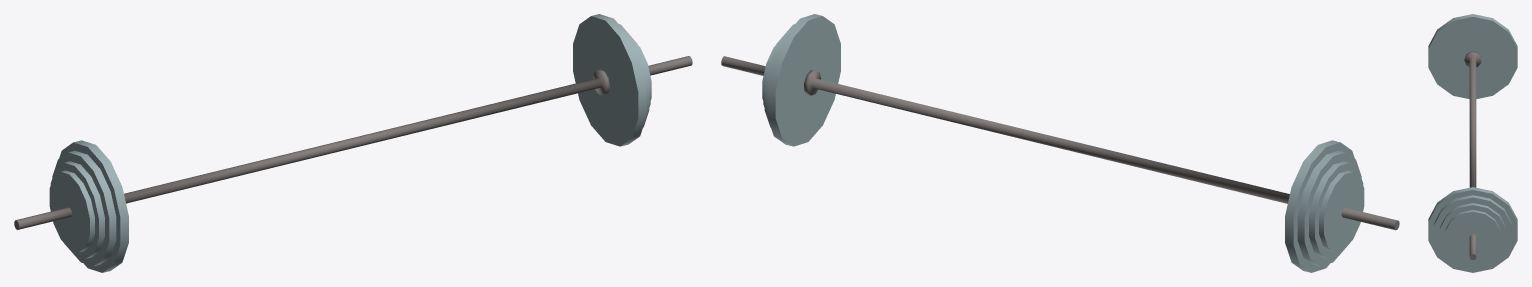
File: SM_Pancakes_02.FBX
3 renders of one model, left to right at view 1: azimuth 30°, elevation 25°; view 2: azimuth 150°, elevation 25°; view 3: azimuth 270°, elevation 25°, orthographic. The views are drawn at different scales.
Parts seen in each view (by area): view 1: SM_Pancakes_02; view 2: SM_Pancakes_02; view 3: SM_Pancakes_02.
Part boxes in pixels (bbox=[...]): SM_Pancakes_02: bbox=[14, 14, 692, 272]; SM_Pancakes_02: bbox=[721, 14, 1399, 272]; SM_Pancakes_02: bbox=[1428, 14, 1517, 272].
Bounding box in the file's own units: 281 × 47.15 × 48.36.
